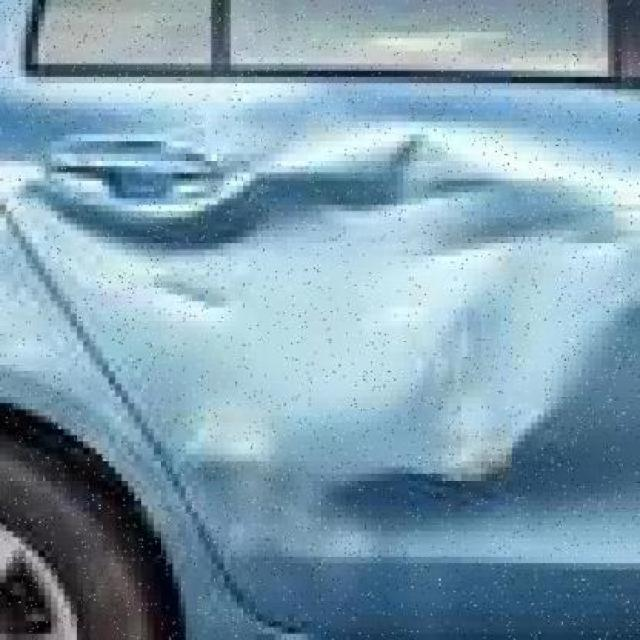doorouter-dent: (71, 77, 634, 500)
